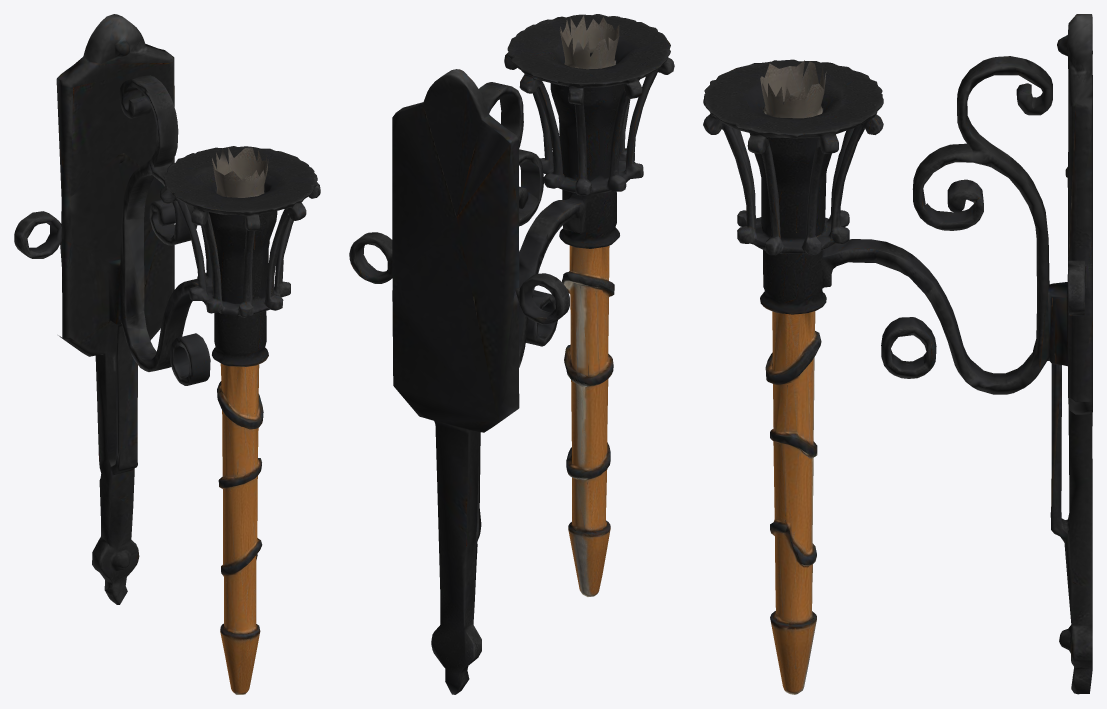
Rendered from wall_torch.gltf.
3 views of the same model, side by side, from view 1: azimuth 30°, elevation 25°; view 2: azimuth 150°, elevation 25°; view 3: azimuth 270°, elevation 25° (orthographic). The views are drawn at different scales.
Visible parts, largest first — view 1: wall_torch; view 2: wall_torch; view 3: wall_torch.
Part boxes in pixels (x1,y1,x2,y2): wall_torch: [14, 14, 320, 694]; wall_torch: [349, 14, 674, 694]; wall_torch: [703, 14, 1092, 694].
Size of the model in its own units: 0.1849 by 0.5144 by 0.268.
1 material, 1 textured.
